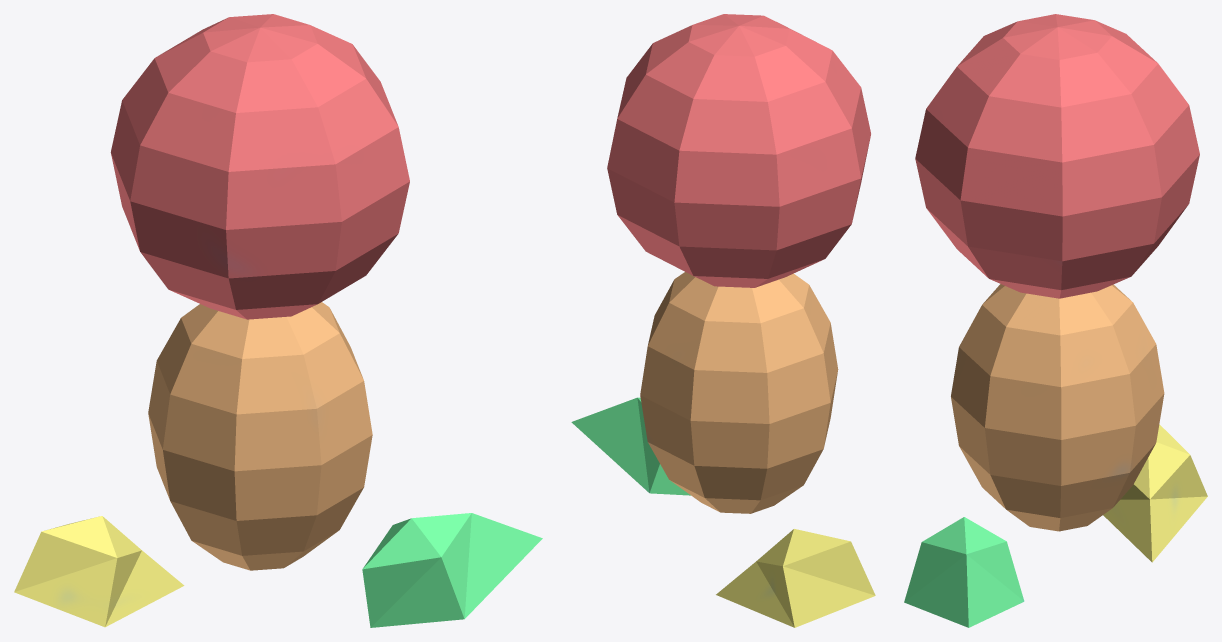
File: player.obj
The picture shows the model from 3 angles, left to right: view 1: azimuth 30°, elevation 25°; view 2: azimuth 150°, elevation 25°; view 3: azimuth 270°, elevation 25°; orthographic projection. The views are drawn at different scales.
Parts seen in each view (by area): view 1: body_球.003; view 2: body_球.003; view 3: body_球.003.
Part boxes in pixels (x1,y1,x2,y2): body_球.003: (14, 14, 542, 627); body_球.003: (571, 14, 875, 627); body_球.003: (904, 14, 1207, 627).
Size of the model in its own units: 3.26 by 4.23 by 2.13.
